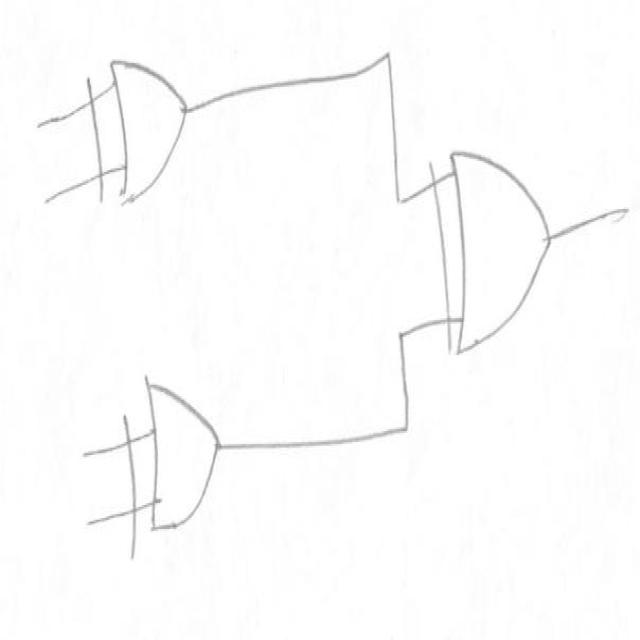XOR: (425, 132, 561, 370), (109, 358, 239, 576), (72, 49, 203, 216)
